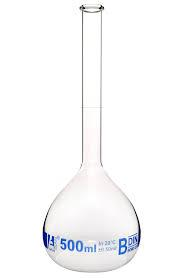Volumetric flask: (36, 4, 144, 275)
